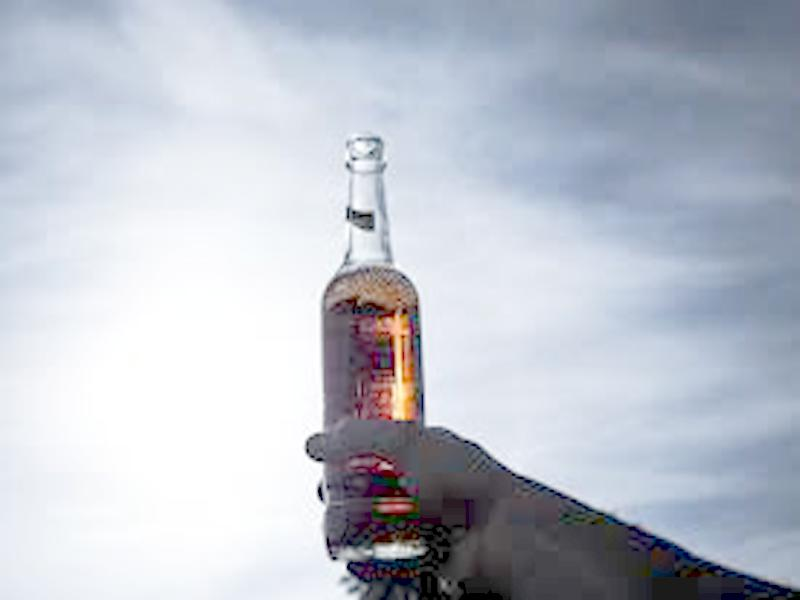Beer: (326, 134, 425, 554)
